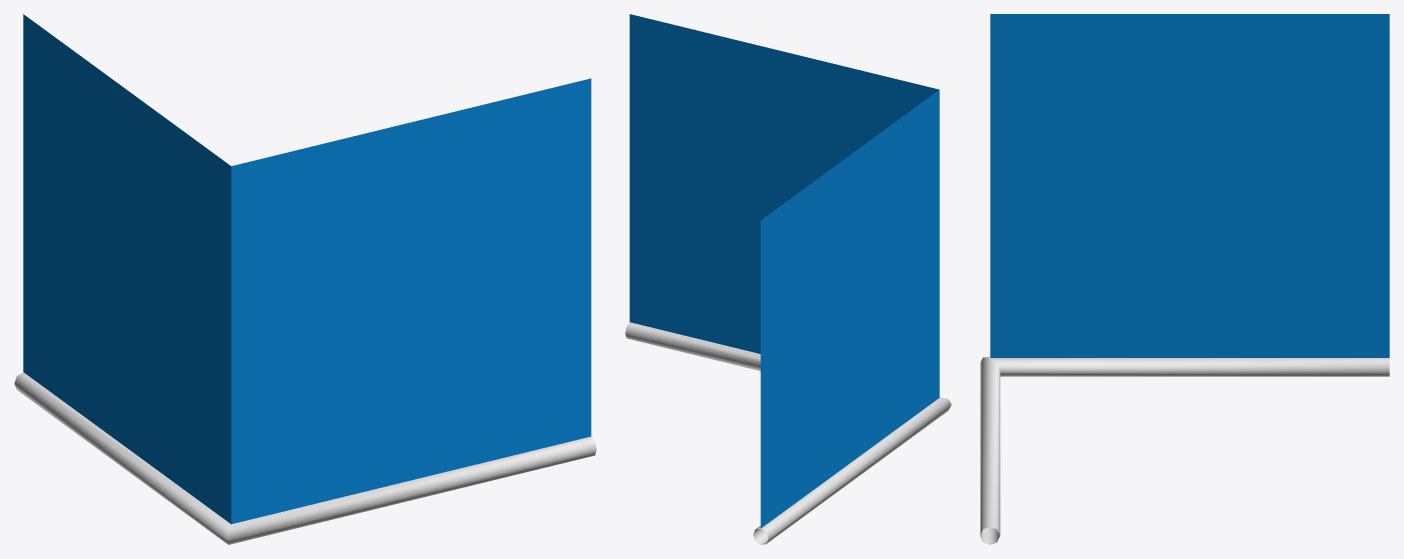
Rendered from Hotel_GlassWallBottomCorn.fbx.
3 renders of one model, left to right at view 1: azimuth 30°, elevation 25°; view 2: azimuth 150°, elevation 25°; view 3: azimuth 270°, elevation 25°, orthographic. The views are drawn at different scales.
Visible parts, largest first — view 1: Wall_Glass_CornerOut.001; view 2: Wall_Glass_CornerOut.001; view 3: Wall_Glass_CornerOut.001.
Part boxes in pixels (x1,y1,x2,y2): Wall_Glass_CornerOut.001: [14, 14, 596, 544]; Wall_Glass_CornerOut.001: [625, 14, 951, 544]; Wall_Glass_CornerOut.001: [980, 14, 1389, 544].
Bounding box in the file's own units: 103 × 100 × 102.
